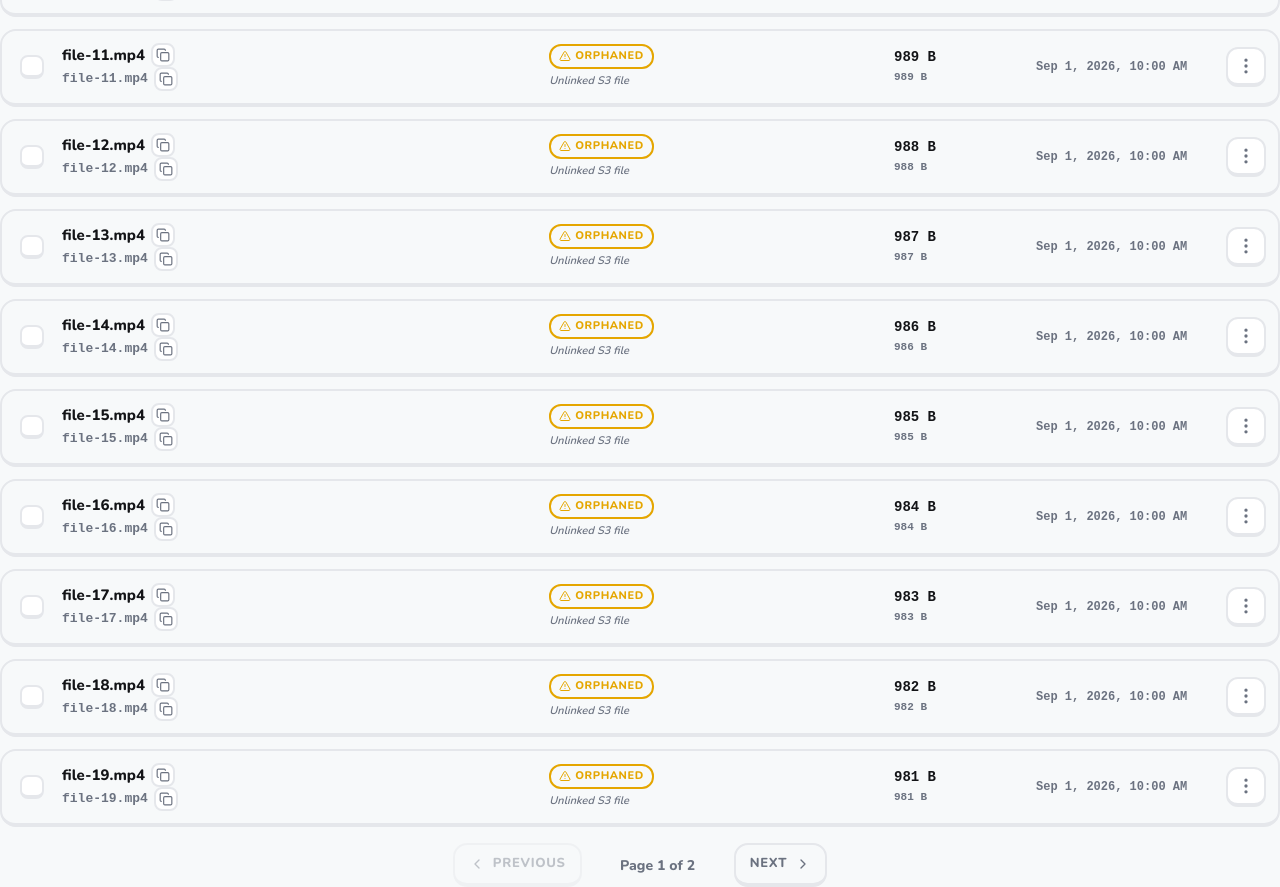
Test: StorageResourceTable polish › StorageResourceTable pagination › resets the current page to 1 when sort changes
The width and height of the screenshot is (1280, 887).
(page scrolled)
Click the button with aria-label "Next page". click: (780,865)
box: [734,843,827,886]
(page scrolled)
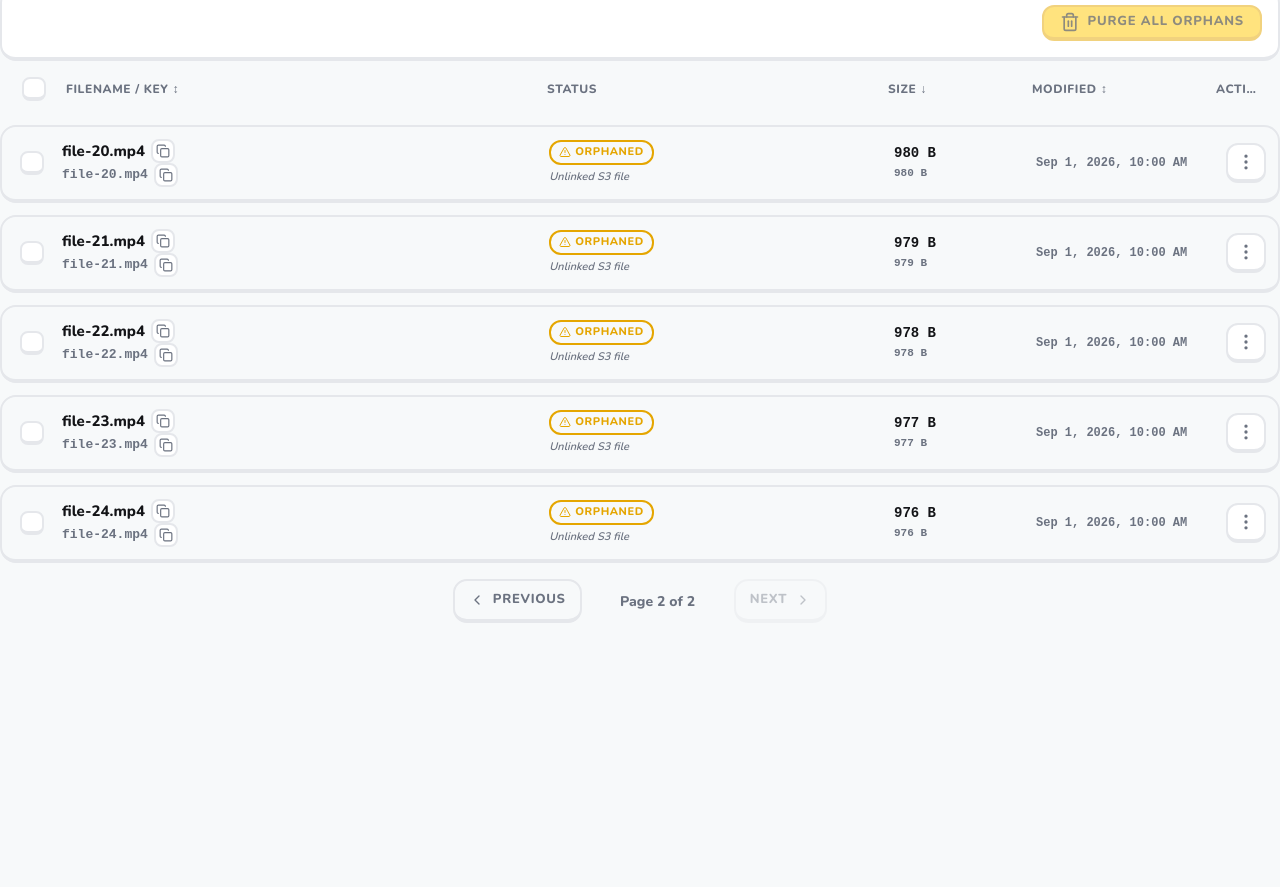
expect the text "Page 2 of 2" is shown: met, box [620,592,695,610]
Click the button "Filename / Key ↕". click: (123,89)
box: [66,81,179,97]
(page scrolled)
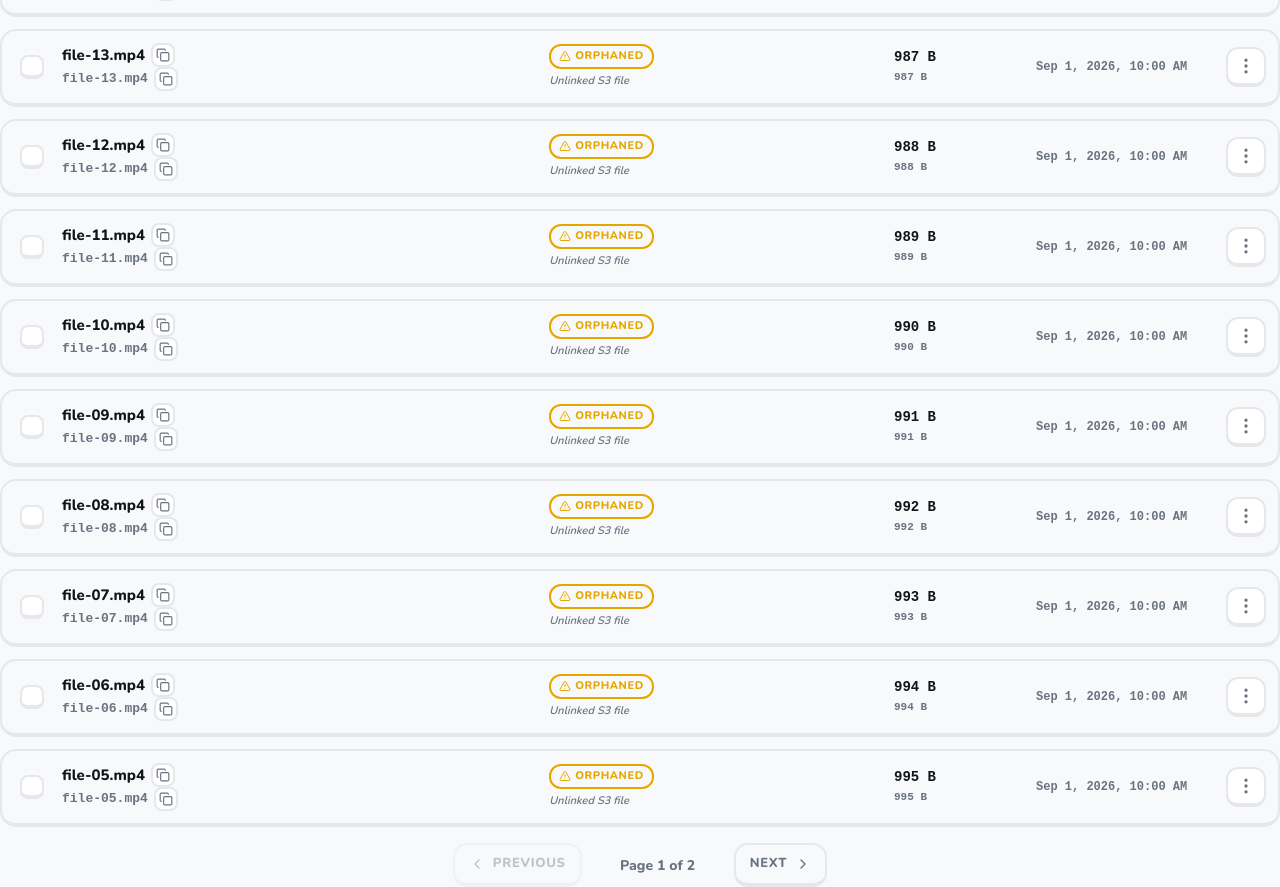
expect the text "Page 1 of 2" is shown: met, box [620,856,695,874]
